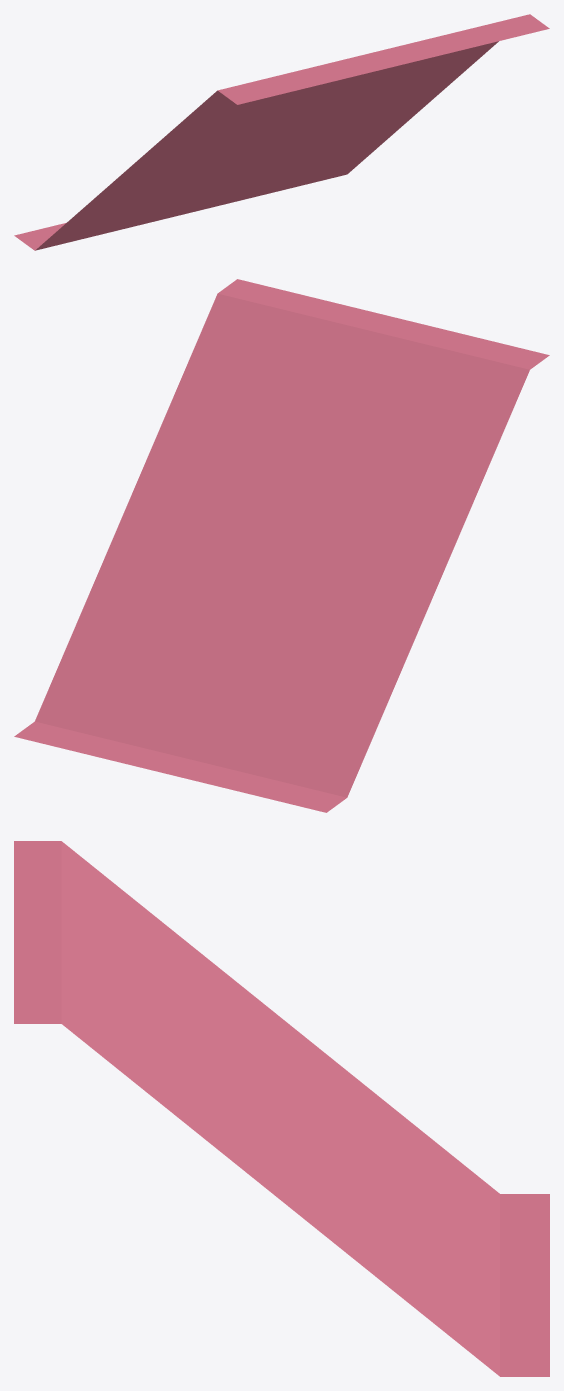
Rendered from Nav_stair_1 1.fbx.
3 renders of one model, top to bottom at view 1: azimuth 30°, elevation 25°; view 2: azimuth 150°, elevation 25°; view 3: azimuth 270°, elevation 25°, orthographic. The views are drawn at different scales.
Parts seen in each view (by area): view 1: stair.001; view 2: stair.001; view 3: stair.001.
Boxes of the visible parts, x1=… form: stair.001: x1=14, y1=14, x2=549, y2=250; stair.001: x1=14, y1=279, x2=549, y2=812; stair.001: x1=14, y1=841, x2=549, y2=1376.
Size of the model in its own units: 2908 by 2615 by 3601.
